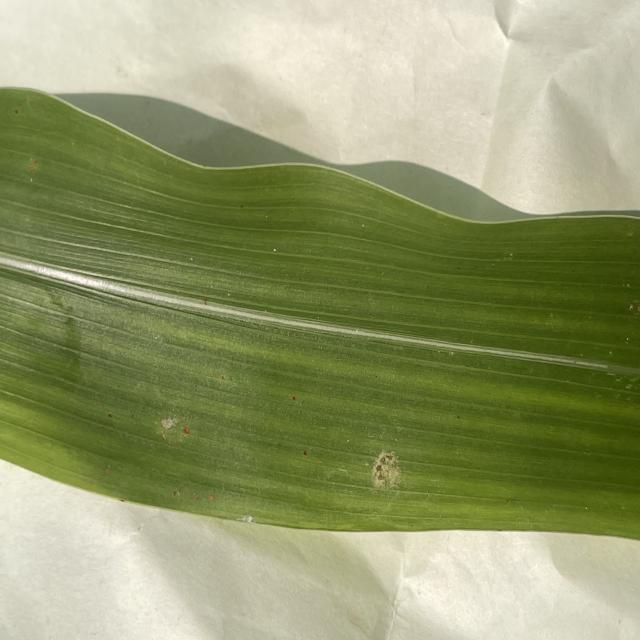millet_healthy: (0, 86, 640, 538), (638, 529, 640, 542)
